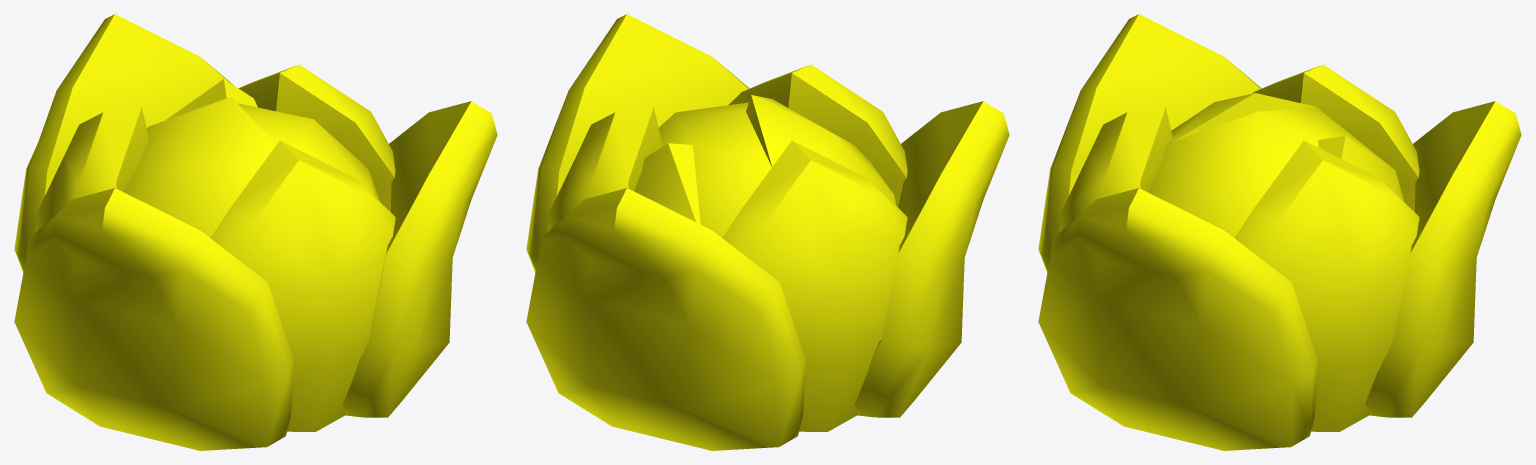
Rendered from kaykit-food-ingredient-lettuce.glb.
3 renders of one model, left to right at view 1: azimuth 30°, elevation 25°; view 2: azimuth 150°, elevation 25°; view 3: azimuth 270°, elevation 25°, orthographic.
Parts seen in each view (by area): view 1: food_ingredient_lettuce; view 2: food_ingredient_lettuce; view 3: food_ingredient_lettuce.
Part boxes in pixels (x1,y1,x2,y2): food_ingredient_lettuce: (14,14,497,450); food_ingredient_lettuce: (526,14,1009,450); food_ingredient_lettuce: (1038,14,1521,450).
Bounding box in the file's own units: 1.1 × 0.8205 × 1.13.
